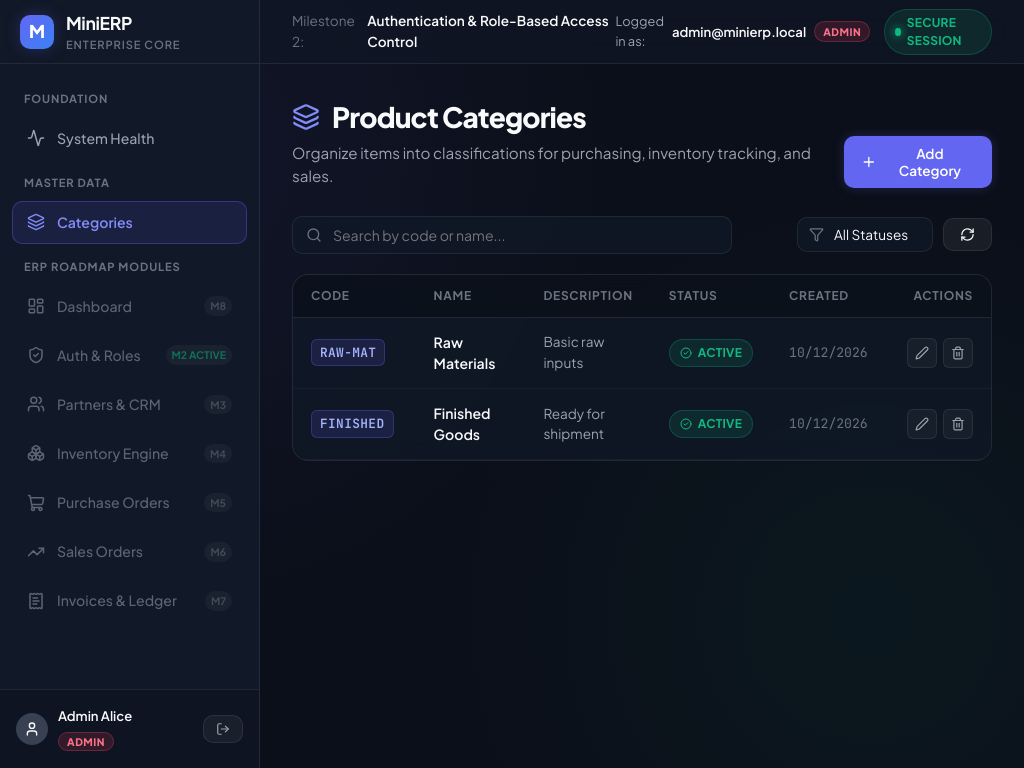
Test: Categories Master Data Page Flow › 5. Deactivates a category via the UI and marks its status Inactive
Expected: the text "RAW-MAT" is shown, [311,339,385,366]
Click the button named "Deactivate Raw Materials": [958, 353] box [943,338,973,368]
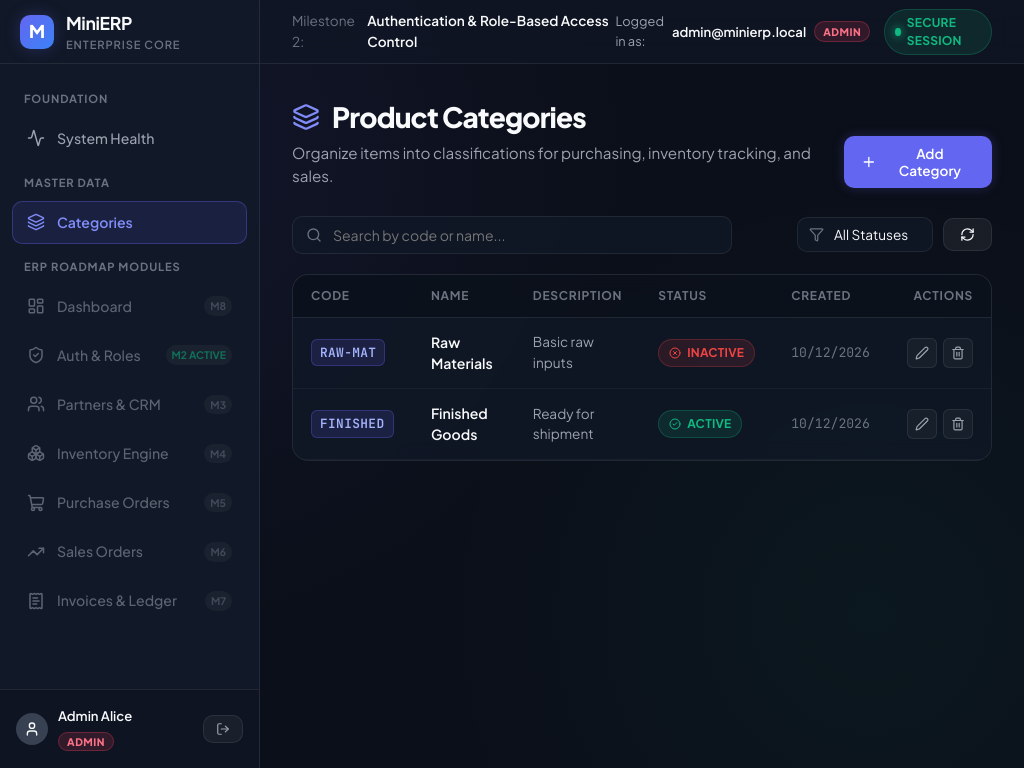
Expected: the text "RAW-MAT" is shown, [311,339,385,366]
Expected: the text "Inactive" is shown, [658,339,755,367]
